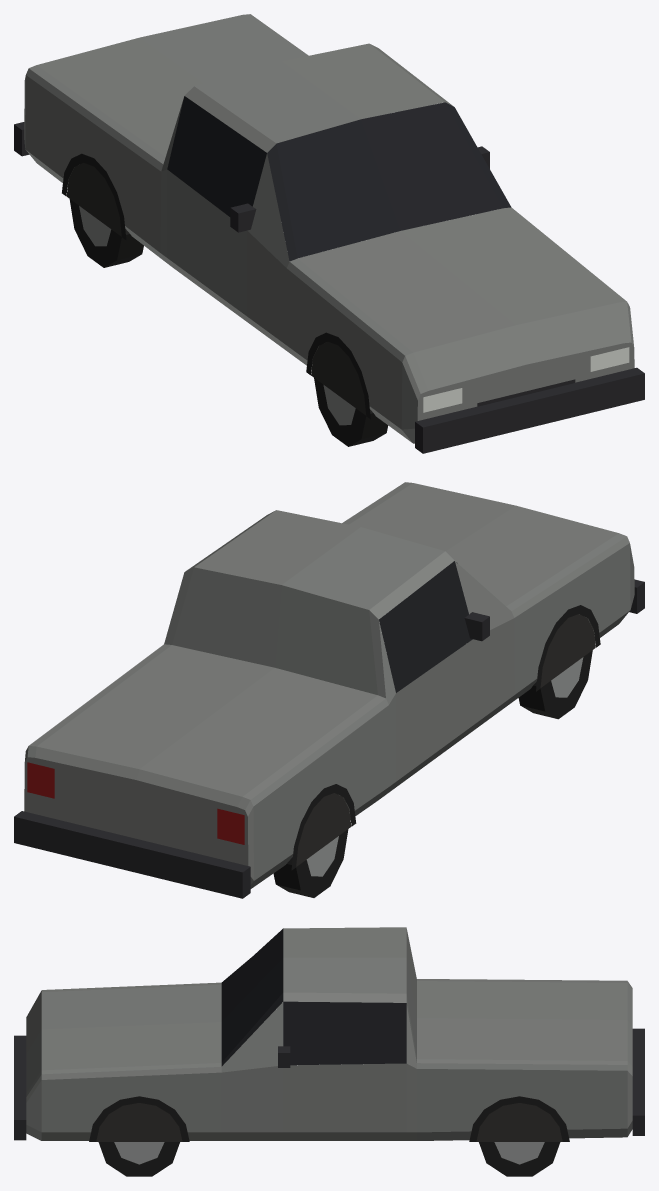
The model's file is town_pickup_grey 2.gltf.
3 views of the same model, one above another, from view 1: azimuth 30°, elevation 25°; view 2: azimuth 150°, elevation 25°; view 3: azimuth 270°, elevation 25° (orthographic). The views are drawn at different scales.
Parts seen in each view (by area): view 1: TownPickupGrey_Body, TownPickupGrey_Glass, TownPickupGrey_Bumpers, TownPickupGrey_Arches, TownPickupGrey_Tyres, TownPickupGrey_Rims, TownPickupGrey_Headlights, TownPickupGrey_Mirrors; view 2: TownPickupGrey_Body, TownPickupGrey_Bumpers, TownPickupGrey_Glass, TownPickupGrey_Arches, TownPickupGrey_Tyres, TownPickupGrey_Taillights, TownPickupGrey_Rims, TownPickupGrey_Mirrors; view 3: TownPickupGrey_Body, TownPickupGrey_Glass, TownPickupGrey_Arches, TownPickupGrey_Tyres, TownPickupGrey_Bumpers, TownPickupGrey_Rims.
Part boxes in pixels (x1=…): TownPickupGrey_Body: x1=24, y1=14, x2=634, y2=443; TownPickupGrey_Glass: x1=167, y1=96, x2=511, y2=261; TownPickupGrey_Bumpers: x1=14, y1=122, x2=644, y2=453; TownPickupGrey_Arches: x1=62, y1=153, x2=370, y2=419; TownPickupGrey_Tyres: x1=69, y1=199, x2=388, y2=446; TownPickupGrey_Rims: x1=79, y1=206, x2=355, y2=425; TownPickupGrey_Headlights: x1=423, y1=347, x2=629, y2=412; TownPickupGrey_Mirrors: x1=230, y1=146, x2=489, y2=232; TownPickupGrey_Body: x1=24, y1=482, x2=634, y2=888; TownPickupGrey_Bumpers: x1=14, y1=579, x2=644, y2=898; TownPickupGrey_Glass: x1=379, y1=561, x2=472, y2=692; TownPickupGrey_Arches: x1=291, y1=605, x2=600, y2=870; TownPickupGrey_Tyres: x1=273, y1=650, x2=592, y2=897; TownPickupGrey_Taillights: x1=27, y1=762, x2=244, y2=844; TownPickupGrey_Rims: x1=306, y1=657, x2=583, y2=876; TownPickupGrey_Mirrors: x1=464, y1=612, x2=489, y2=641; TownPickupGrey_Body: x1=26, y1=927, x2=632, y2=1140; TownPickupGrey_Glass: x1=221, y1=928, x2=406, y2=1066; TownPickupGrey_Arches: x1=89, y1=1096, x2=569, y2=1141; TownPickupGrey_Tyres: x1=98, y1=1142, x2=560, y2=1176; TownPickupGrey_Bumpers: x1=14, y1=1028, x2=644, y2=1140; TownPickupGrey_Rims: x1=114, y1=1142, x2=544, y2=1164.
Size of what is drawn, in the model's own units: 2.2 by 1.89 by 6.14.
1 material, 1 textured.
